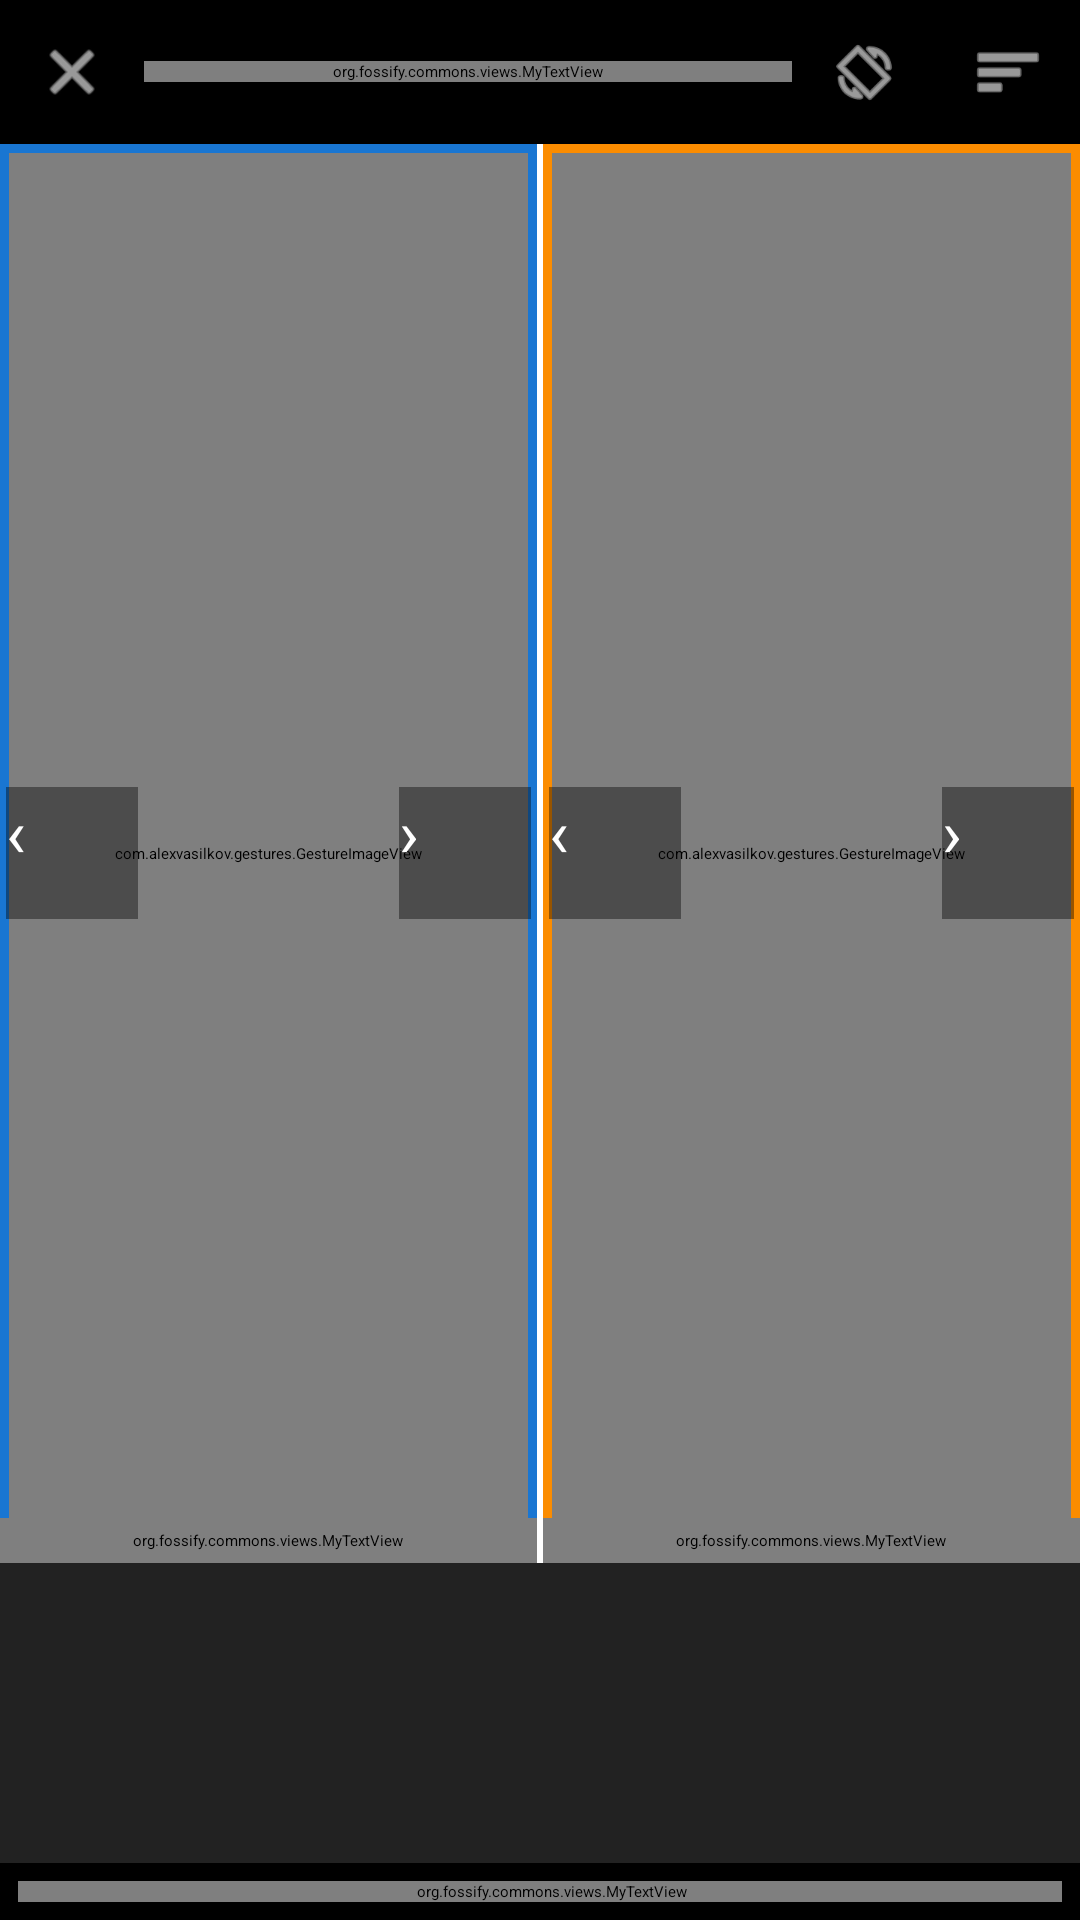

Where to tap for icons on this 1080px x 1920px app screen, as (x=x, y=y):
close clear cancel: (x=72, y=72)
